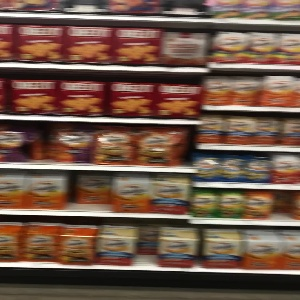void: (64, 173, 114, 212), (271, 190, 294, 222)
